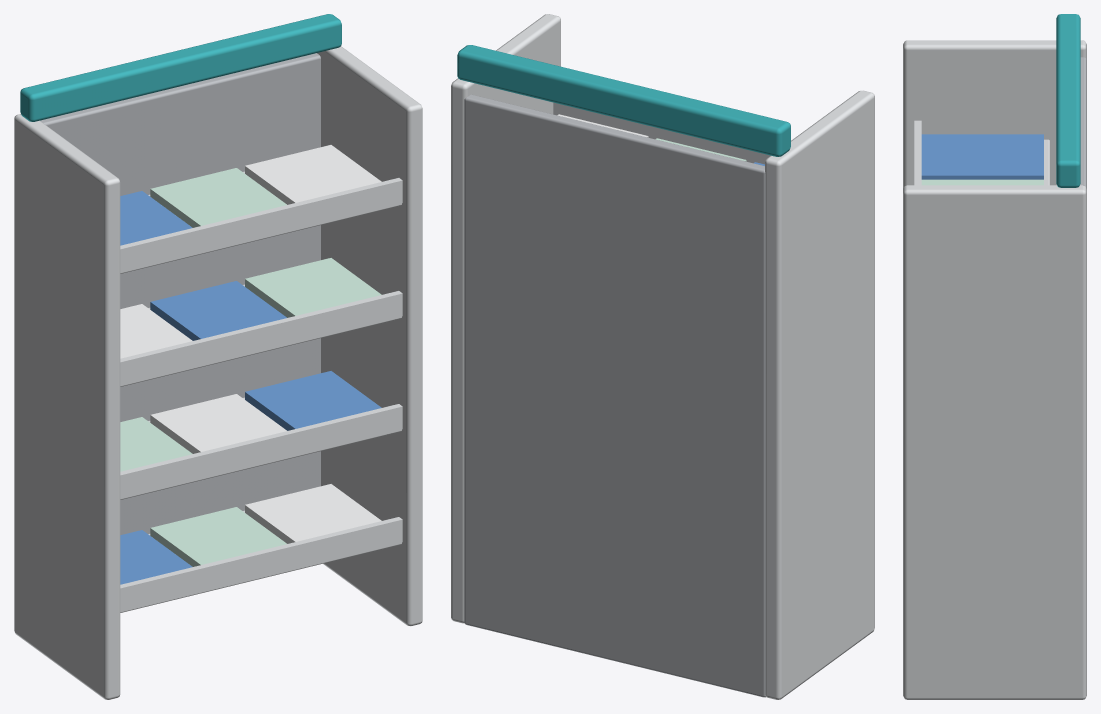
File: pouch_rack.glb
3 renders of one model, left to right at view 1: azimuth 30°, elevation 25°; view 2: azimuth 150°, elevation 25°; view 3: azimuth 270°, elevation 25°, orthographic. The views are drawn at different scales.
Parts seen in each view (by area): view 1: sterile-pouch-rack; view 2: sterile-pouch-rack; view 3: sterile-pouch-rack.
Boxes of the visible parts, x1=… form: sterile-pouch-rack: x1=14, y1=14, x2=422, y2=699; sterile-pouch-rack: x1=451, y1=14, x2=874, y2=699; sterile-pouch-rack: x1=903, y1=14, x2=1086, y2=699.
Size of the model in its own units: 0.59 by 0.97 by 0.3.
